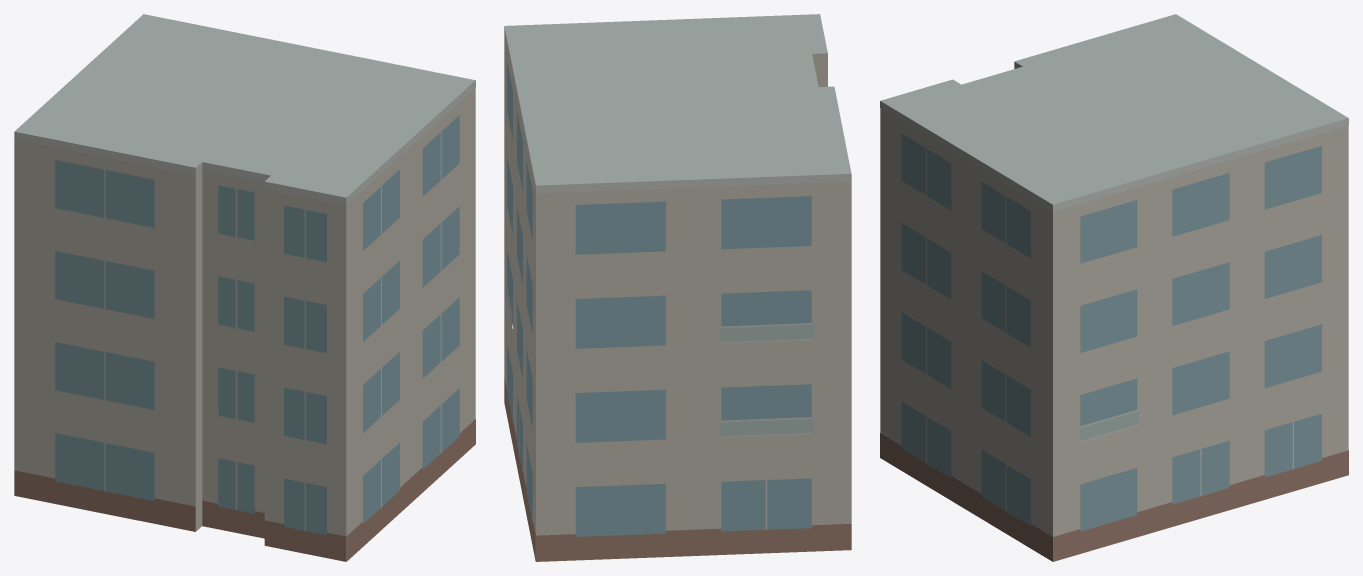
File: survey-upis-32524809.glb
3 renders of one model, left to right at view 1: azimuth 30°, elevation 25°; view 2: azimuth 150°, elevation 25°; view 3: azimuth 270°, elevation 25°, orthographic. The views are drawn at different scales.
Parts seen in each view (by area): view 1: survey-upis-32524809.tmp; view 2: survey-upis-32524809.tmp; view 3: survey-upis-32524809.tmp.
Part boxes in pixels (<box>): survey-upis-32524809.tmp: <box>14,14,475,561</box>; survey-upis-32524809.tmp: <box>504,14,851,561</box>; survey-upis-32524809.tmp: <box>880,14,1348,561</box>.
Size of the model in its own units: 13.64 by 11.9 by 14.16.
